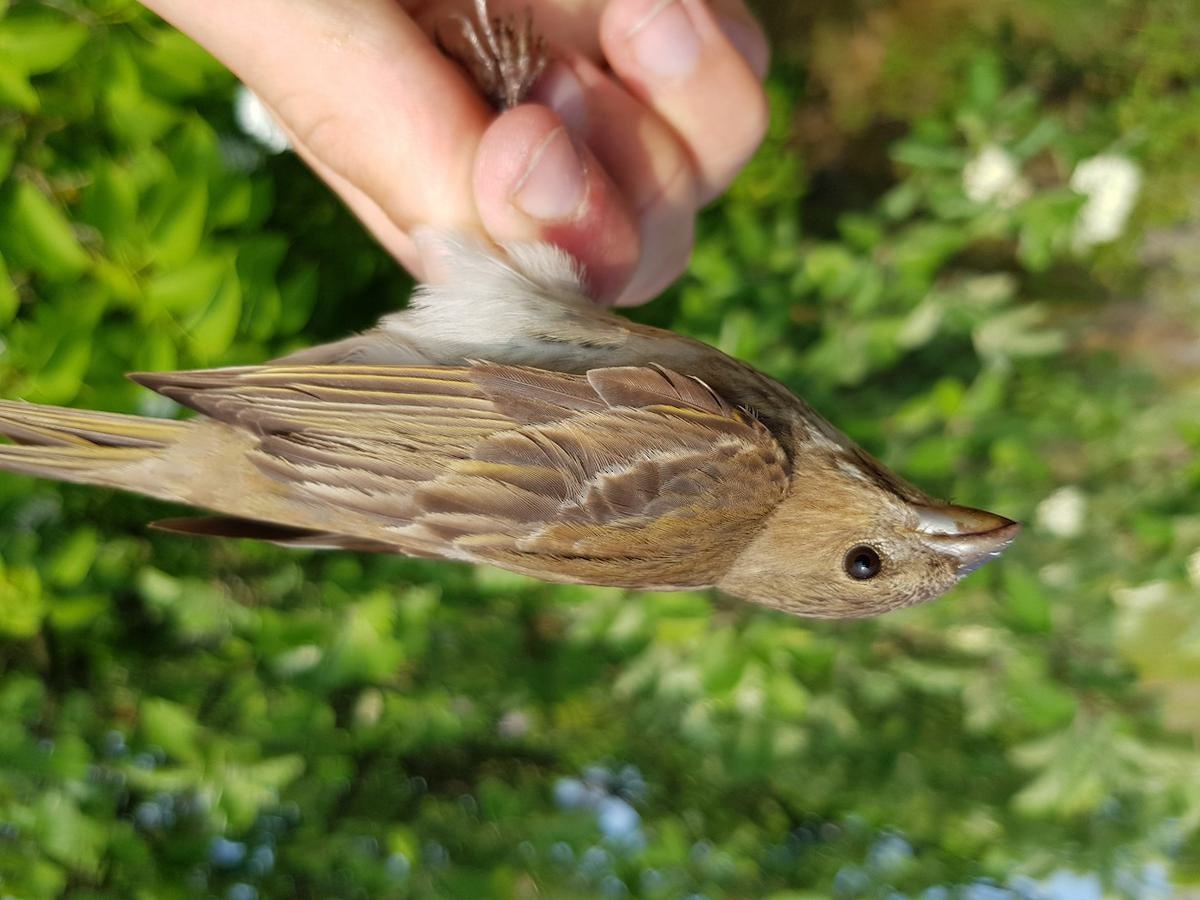rosefinch: (108, 311, 1013, 628)
